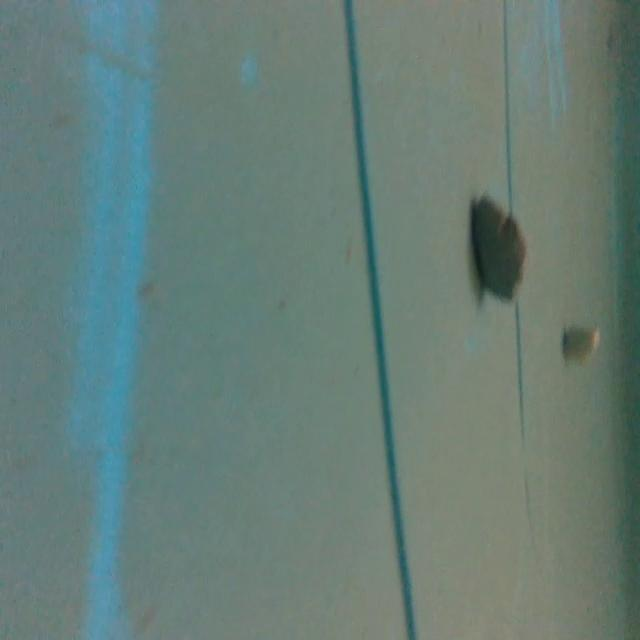rock: (460, 188, 531, 308), (560, 316, 601, 367)
